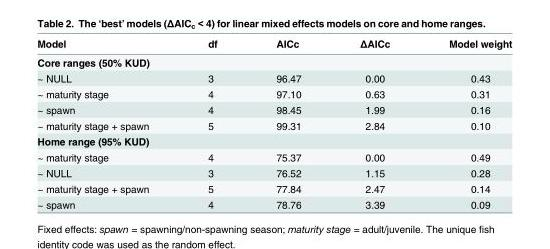table: (36, 37, 511, 209)
table column: (36, 37, 177, 209), (418, 37, 511, 209), (329, 37, 418, 209), (246, 37, 329, 209), (177, 37, 246, 209)
table column header: (36, 37, 511, 52)
table projected row header: (36, 52, 511, 70), (36, 133, 511, 148)
table row: (36, 52, 511, 70), (36, 85, 511, 101), (36, 101, 511, 117), (36, 117, 511, 133), (36, 148, 511, 164), (36, 164, 511, 180), (36, 180, 511, 196), (36, 37, 511, 52), (36, 70, 511, 85), (36, 133, 511, 148), (36, 196, 511, 209)
